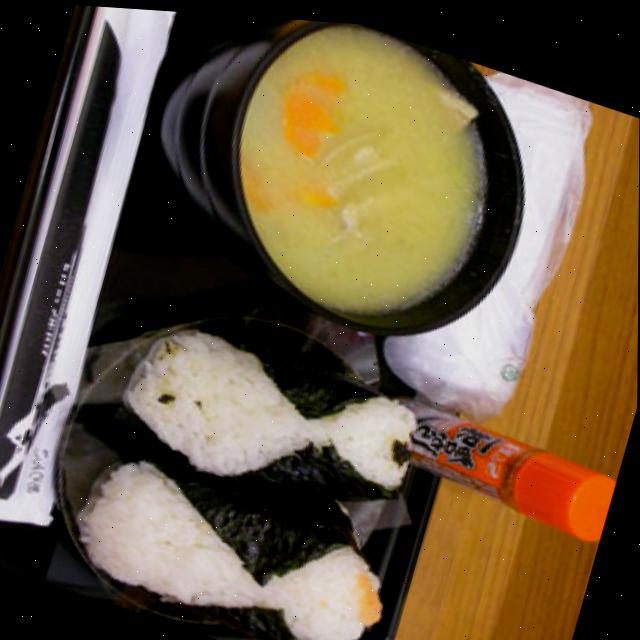汤锅炖物: (168, 9, 576, 389)
米饭主食: (111, 287, 447, 546), (47, 426, 421, 640)
